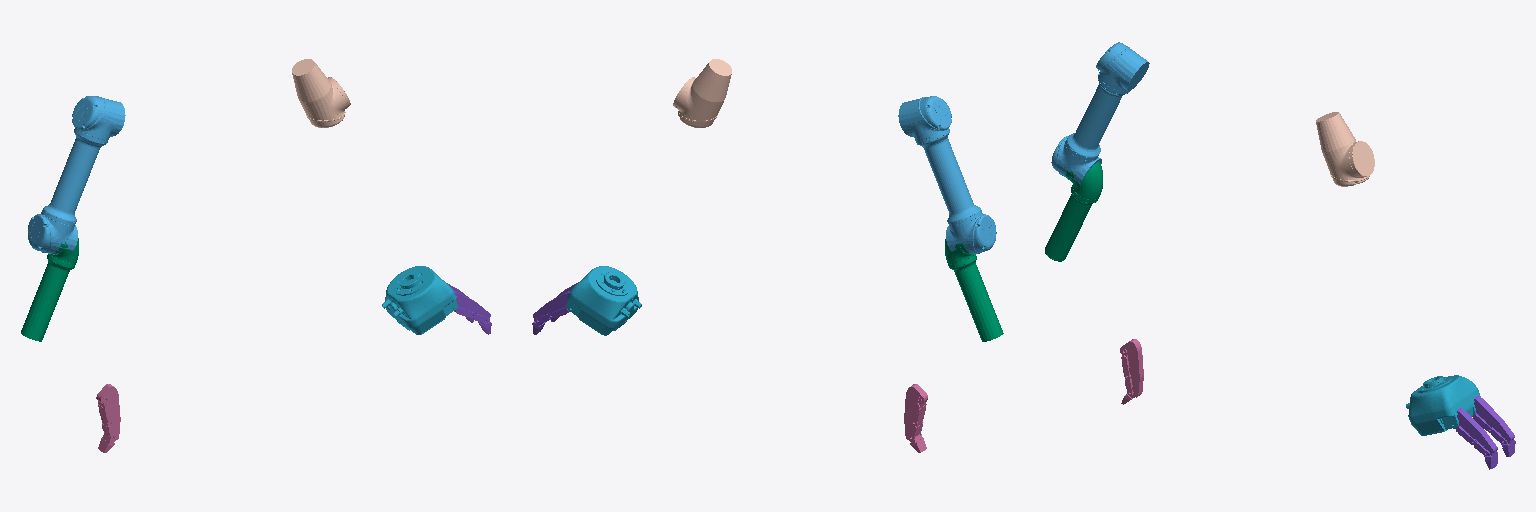
The robot description file, URDF, robot "dji_arms_exported_urdf":
<?xml version="1.0"?>
<!-- created with Phobos 0.7 -->
  <robot name="dji_arms_exported_urdf">

    <link name="armL_bfinger">
      <inertial>
        <origin xyz="0 0 0" rpy="0 0 0"/>
        <mass value="0.05426"/>
        <inertia ixx="0.001" ixy="0" ixz="0" iyy="0.001" iyz="0" izz="0.001"/>
      </inertial>
      <visual name="visual_0_armL_bfinger">
        <origin xyz="0 0 0" rpy="0 0 0"/>
        <geometry>
          <mesh filename="../meshes/obj/armL bfinger.obj" scale="1.0 1.0 1.0"/>
        </geometry>
      </visual>
      <collision name="collision_0_armL_bfinger">
        <origin xyz="0 0 0" rpy="0 0 0"/>
        <geometry>
          <mesh filename="../meshes/obj/armL bfinger.001.obj" scale="1.0 1.0 1.0"/>
        </geometry>
      </collision>
    </link>

    <link name="armL_hand">
      <inertial>
        <origin xyz="0 0 0" rpy="0 0 0"/>
        <mass value="0.51528"/>
        <inertia ixx="0.001" ixy="-2e-05" ixz="0" iyy="0.001" iyz="0" izz="0.001"/>
      </inertial>
      <visual name="visual_0_armL_hand">
        <origin xyz="0 0 0" rpy="0 0 0"/>
        <geometry>
          <mesh filename="../meshes/obj/armL hand.002.obj" scale="1.0 1.0 1.0"/>
        </geometry>
        <material name="hand_blue"/>
      </visual>
      <collision name="collision_0_armL_hand">
        <origin xyz="0 0 0" rpy="0 0 0"/>
        <geometry>
          <mesh filename="../meshes/obj/armL hand.003.obj" scale="1.0 1.0 1.0"/>
        </geometry>
      </collision>
    </link>

    <link name="armL_link1">
      <inertial>
        <origin xyz="0 0 0" rpy="0 0 0"/>
        <mass value="0.29699"/>
        <inertia ixx="0.001" ixy="0" ixz="0" iyy="0.001" iyz="-2e-05" izz="0.001"/>
      </inertial>
      <visual name="visual_0_armL_link1">
        <origin xyz="0 0 0" rpy="0 0 0"/>
        <geometry>
          <mesh filename="../meshes/obj/armL link1.002.obj" scale="1.0 1.0 1.0"/>
        </geometry>
        <material name="arm_beige"/>
      </visual>
      <collision name="collision_0_armL_link1">
        <origin xyz="0 0 0" rpy="0 0 0"/>
        <geometry>
          <mesh filename="../meshes/obj/armL link1.003.obj" scale="1.0 1.0 1.0"/>
        </geometry>
      </collision>
    </link>

    <link name="armL_link2">
      <inertial>
        <origin xyz="0 0 0" rpy="0 0 0"/>
        <mass value="0.43522"/>
        <inertia ixx="0.00442" ixy="0" ixz="0" iyy="0.001" iyz="0" izz="0.00438"/>
      </inertial>
      <visual name="visual_0_armL_link2">
        <origin xyz="0 0 0" rpy="0 0 0"/>
        <geometry>
          <mesh filename="../meshes/obj/armL link2.obj" scale="1.0 1.0 1.0"/>
        </geometry>
      </visual>
      <collision name="collision_0_armL_link2">
        <origin xyz="0 0 0" rpy="0 0 0"/>
        <geometry>
          <mesh filename="../meshes/obj/armL link2.001.obj" scale="1.0 1.0 1.0"/>
        </geometry>
      </collision>
    </link>

    <link name="armL_link3">
      <inertial>
        <origin xyz="0 0 0" rpy="0 0 0"/>
        <mass value="0.40456"/>
        <inertia ixx="0.00113" ixy="0" ixz="0" iyy="0.001" iyz="8e-05" izz="0.00112"/>
      </inertial>
      <visual name="visual_0_armL_link3">
        <origin xyz="0 0 0" rpy="0 0 0"/>
        <geometry>
          <mesh filename="../meshes/obj/armL link3.obj" scale="1.0 1.0 1.0"/>
        </geometry>
      </visual>
      <collision name="collision_0_armL_link3">
        <origin xyz="0 0 0" rpy="0 0 0"/>
        <geometry>
          <mesh filename="../meshes/obj/armL link3.001.obj" scale="1.0 1.0 1.0"/>
        </geometry>
      </collision>
    </link>

    <link name="armL_tfinger">
      <inertial>
        <origin xyz="0 0 0" rpy="0 0 0"/>
        <mass value="0.10851"/>
        <inertia ixx="0.001" ixy="1e-05" ixz="0" iyy="0.001" iyz="0" izz="0.001"/>
      </inertial>
      <visual name="visual_0_armL_tfinger">
        <origin xyz="0 0 0" rpy="0 0 0"/>
        <geometry>
          <mesh filename="../meshes/obj/armL tfinger.002.obj" scale="1.0 1.0 1.0"/>
        </geometry>
        <material name="finger_purple"/>
      </visual>
      <collision name="collision_0_armL_tfinger">
        <origin xyz="0 0 0" rpy="0 0 0"/>
        <geometry>
          <mesh filename="../meshes/obj/armL tfinger.003.obj" scale="1.0 1.0 1.0"/>
        </geometry>
      </collision>
    </link>

    <link name="armR_bfinger">
      <inertial>
        <origin xyz="0 0 0" rpy="0 0 0"/>
        <mass value="0.05426"/>
        <inertia ixx="0.001" ixy="0" ixz="0" iyy="0.001" iyz="0" izz="0.001"/>
      </inertial>
      <visual name="visual_0_armR_bfinger">
        <origin xyz="0 0 0" rpy="0 0 0"/>
        <geometry>
          <mesh filename="../meshes/obj/armL bfinger.002.obj" scale="1.0 1.0 1.0"/>
        </geometry>
      </visual>
      <collision name="collision_0_armR_bfinger">
        <origin xyz="0 0 0" rpy="0 0 0"/>
        <geometry>
          <mesh filename="../meshes/obj/armL bfinger.003.obj" scale="1.0 1.0 1.0"/>
        </geometry>
      </collision>
    </link>

    <link name="armR_hand">
      <inertial>
        <origin xyz="0 0 0" rpy="0 0 0"/>
        <mass value="0.51528"/>
        <inertia ixx="0.001" ixy="-2e-05" ixz="0" iyy="0.001" iyz="0" izz="0.001"/>
      </inertial>
      <visual name="visual_0_armR_hand">
        <origin xyz="0 0 0" rpy="0 0 0"/>
        <geometry>
          <mesh filename="../meshes/obj/armL hand.obj" scale="1.0 1.0 1.0"/>
        </geometry>
      </visual>
      <collision name="collision_0_armR_hand">
        <origin xyz="0 0 0" rpy="0 0 0"/>
        <geometry>
          <mesh filename="../meshes/obj/armL hand.001.obj" scale="1.0 1.0 1.0"/>
        </geometry>
      </collision>
    </link>

    <link name="armR_link1">
      <inertial>
        <origin xyz="0 0 0" rpy="0 0 0"/>
        <mass value="0.29699"/>
        <inertia ixx="0.001" ixy="0" ixz="0" iyy="0.001" iyz="-2e-05" izz="0.001"/>
      </inertial>
      <visual name="visual_0_armR_link1">
        <origin xyz="0 0 0" rpy="0 0 0"/>
        <geometry>
          <mesh filename="../meshes/obj/armL link1.obj" scale="1.0 1.0 1.0"/>
        </geometry>
      </visual>
      <collision name="collision_0_armR_link1">
        <origin xyz="0 0 0" rpy="0 0 0"/>
        <geometry>
          <mesh filename="../meshes/obj/armL link1.001.obj" scale="1.0 1.0 1.0"/>
        </geometry>
      </collision>
    </link>

    <link name="armR_link2">
      <inertial>
        <origin xyz="0 0 0" rpy="0 0 0"/>
        <mass value="0.43522"/>
        <inertia ixx="0.00442" ixy="0" ixz="0" iyy="0.001" iyz="0" izz="0.00438"/>
      </inertial>
      <visual name="visual_0_armR_link2">
        <origin xyz="0 0 0" rpy="0 0 0"/>
        <geometry>
          <mesh filename="../meshes/obj/armL link2.002.obj" scale="1.0 1.0 1.0"/>
        </geometry>
      </visual>
      <collision name="collision_0_armR_link2">
        <origin xyz="0 0 0" rpy="0 0 0"/>
        <geometry>
          <mesh filename="../meshes/obj/armL link2.003.obj" scale="1.0 1.0 1.0"/>
        </geometry>
      </collision>
    </link>

    <link name="armR_link3">
      <inertial>
        <origin xyz="0 0 0" rpy="0 0 0"/>
        <mass value="0.40456"/>
        <inertia ixx="0.00113" ixy="0" ixz="0" iyy="0.001" iyz="8e-05" izz="0.00112"/>
      </inertial>
      <visual name="visual_0_armR_link3">
        <origin xyz="0 0 0" rpy="0 0 0"/>
        <geometry>
          <mesh filename="../meshes/obj/armL link3.002.obj" scale="1.0 1.0 1.0"/>
        </geometry>
      </visual>
      <collision name="collision_0_armR_link3">
        <origin xyz="0 0 0" rpy="0 0 0"/>
        <geometry>
          <mesh filename="../meshes/obj/armL link3.003.obj" scale="1.0 1.0 1.0"/>
        </geometry>
      </collision>
    </link>

    <link name="armR_tfinger">
      <inertial>
        <origin xyz="0 0 0" rpy="0 0 0"/>
        <mass value="0.10851"/>
        <inertia ixx="0.001" ixy="1e-05" ixz="0" iyy="0.001" iyz="0" izz="0.001"/>
      </inertial>
      <visual name="visual_0_armR_tfinger">
        <origin xyz="0 0 0" rpy="0 0 0"/>
        <geometry>
          <mesh filename="../meshes/obj/armL tfinger.obj" scale="1.0 1.0 1.0"/>
        </geometry>
      </visual>
      <collision name="collision_0_armR_tfinger">
        <origin xyz="0 0 0" rpy="0 0 0"/>
        <geometry>
          <mesh filename="../meshes/obj/armL tfinger.001.obj" scale="1.0 1.0 1.0"/>
        </geometry>
      </collision>
    </link>

    <link name="dji_hexcopter">
      <inertial>
        <origin xyz="0 0 0" rpy="0 0 0"/>
        <mass value="1.8786"/>
        <inertia ixx="0.00376" ixy="0" ixz="0" iyy="0.00479" iyz="0" izz="0.00173"/>
      </inertial>
      <visual name="visual_0_dji_hexcopter">
        <origin xyz="0 0 0" rpy="0 0 0"/>
        <geometry>
          <mesh filename="../meshes/obj/dji hexcopter.obj" scale="1.0 1.0 1.0"/>
        </geometry>
        <material name="hexcopter_red"/>
      </visual>
      <collision name="collision_0_dji_hexcopter">
        <origin xyz="0 0 0" rpy="0 0 0"/>
        <geometry>
          <mesh filename="../meshes/obj/dji hexcopter.001.obj" scale="1.0 1.0 1.0"/>
        </geometry>
      </collision>
    </link>

    <joint name="armL_joint1" type="continuous">
      <origin xyz="0.09567 -0.02984 -0.0907" rpy="-1.1425 0 -1.5708"/>
      <parent link="dji_hexcopter"/>
      <child link="armL_link1"/>
      <axis xyz="0 1.0 0"/>
      <limit effort="0" velocity="0"/>
    </joint>

    <joint name="armL_joint2" type="continuous">
      <origin xyz="0 0.06133 -0.0677" rpy="0 0 0"/>
      <parent link="armL_link1"/>
      <child link="armL_link2"/>
      <axis xyz="0 0 1.0"/>
    </joint>

    <joint name="armL_joint3" type="continuous">
      <origin xyz="0 0.2125 -0.02883" rpy="0 0 0"/>
      <parent link="armL_link2"/>
      <child link="armL_link3"/>
      <axis xyz="0 0 1.0"/>
    </joint>

    <joint name="armL_joint_bfinger" type="continuous">
      <origin xyz="0.03336 0.05794 0" rpy="0 0 0"/>
      <parent link="armL_hand"/>
      <child link="armL_bfinger"/>
      <axis xyz="0 0 1.0"/>
    </joint>

    <joint name="armL_joint_tfinger" type="continuous">
      <origin xyz="-0.0334 0.05794 0" rpy="0 0 0"/>
      <parent link="armL_hand"/>
      <child link="armL_tfinger"/>
      <axis xyz="0 0 1.0"/>
    </joint>

    <joint name="armL_joint_wrist" type="continuous">
      <origin xyz="0 0.18481 0.09983" rpy="-0.03467 1.57079 -0.04367"/>
      <parent link="armL_link3"/>
      <child link="armL_hand"/>
      <axis xyz="0 1.0 0"/>
    </joint>

    <joint name="armR_joint1" type="continuous">
      <origin xyz="-0.07921 -0.02984 -0.04819" rpy="-1.1425 0 1.5708"/>
      <parent link="dji_hexcopter"/>
      <child link="armR_link1"/>
      <axis xyz="0 1.0 0"/>
    </joint>

    <joint name="armR_joint2" type="continuous">
      <origin xyz="0 0.10806 0.04894" rpy="0 0 0"/>
      <parent link="armR_link1"/>
      <child link="armR_link2"/>
      <axis xyz="0 0 1.0"/>
    </joint>

    <joint name="armR_joint3" type="continuous">
      <origin xyz="0 0.2125 0" rpy="0 0 0"/>
      <parent link="armR_link2"/>
      <child link="armR_link3"/>
      <axis xyz="0 0 1.0"/>
    </joint>

    <joint name="armR_joint_bfinger" type="continuous">
      <origin xyz="0.03336 0.10959 0" rpy="0 0 0"/>
      <parent link="armR_hand"/>
      <child link="armR_bfinger"/>
      <axis xyz="0 0 1.0"/>
    </joint>

    <joint name="armR_joint_tfinger" type="continuous">
      <origin xyz="-0.0334 0.10959 0" rpy="0 0 0"/>
      <parent link="armR_hand"/>
      <child link="armR_tfinger"/>
      <axis xyz="0 0 1.0"/>
    </joint>

    <joint name="armR_joint_wrist" type="continuous">
      <origin xyz="0 0.13316 -0.04564" rpy="-0.03466 1.57079 -0.0261"/>
      <parent link="armR_link3"/>
      <child link="armR_hand"/>
      <axis xyz="0 1.0 0"/>
    </joint>

    <material name="arm_beige">
      <color rgba="0.94509 0.79215 0.72941 1.0"/>
    </material>

    <material name="finger_purple">
      <color rgba="0.54901 0.38823 0.81176 1.0"/>
    </material>

    <material name="hand_blue">
      <color rgba="0.2 0.67843 0.8 1.0"/>
    </material>

    <material name="hexcopter_red">
      <color rgba="0.7098 0.18823 0.14117 1.0"/>
    </material>

  </robot>

--- What the picture shows (computed from the rendered views, not written in the file) ---
The picture shows the robot from 3 angles, left to right: view 1: azimuth 30°, elevation 25°; view 2: azimuth 150°, elevation 25°; view 3: azimuth 330°, elevation 25°; orthographic projection.
Model dji_arms_exported_urdf with 13 links and 12 joints (12 continuous), rooted at dji_hexcopter, posed all joints at 0.
Links seen in each view (by area): view 1: armR_link2, armL_hand, armL_link1, armR_link3, armR_bfinger, armL_tfinger; view 2: armR_link2, armL_hand, armL_link1, armR_link3, armR_bfinger, armL_tfinger; view 3: armR_link2, armL_hand, armL_link1, armR_link3, armL_tfinger, armR_bfinger.
Boxes of the visible links, bbox=[...] form: armR_link2: bbox=[28, 96, 125, 254]; armL_hand: bbox=[382, 266, 457, 334]; armL_link1: bbox=[292, 59, 350, 127]; armR_link3: bbox=[21, 238, 78, 341]; armR_bfinger: bbox=[96, 384, 120, 452]; armL_tfinger: bbox=[447, 283, 491, 334]; armR_link2: bbox=[898, 96, 996, 253]; armL_hand: bbox=[566, 266, 641, 335]; armL_link1: bbox=[673, 59, 731, 127]; armR_link3: bbox=[945, 239, 1003, 341]; armR_bfinger: bbox=[904, 384, 927, 452]; armL_tfinger: bbox=[532, 282, 578, 334]; armR_link2: bbox=[1051, 42, 1149, 184]; armL_hand: bbox=[1406, 375, 1480, 435]; armL_link1: bbox=[1316, 112, 1374, 186]; armR_link3: bbox=[1045, 162, 1102, 261]; armL_tfinger: bbox=[1453, 396, 1515, 469]; armR_bfinger: bbox=[1120, 339, 1143, 404].
Size in the robot's own frame: 0.8533 by 0.0977 by 0.6335 metres.
Meshes: 13 distinct files referenced, 6 mesh visuals loaded (6 OBJ); not drawn: 7 (reference not matched to a file when rendering).